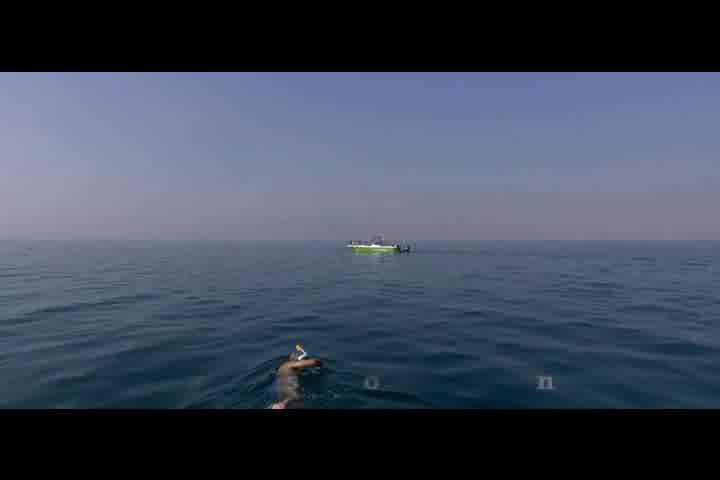swimmer: (268, 354, 327, 411)
